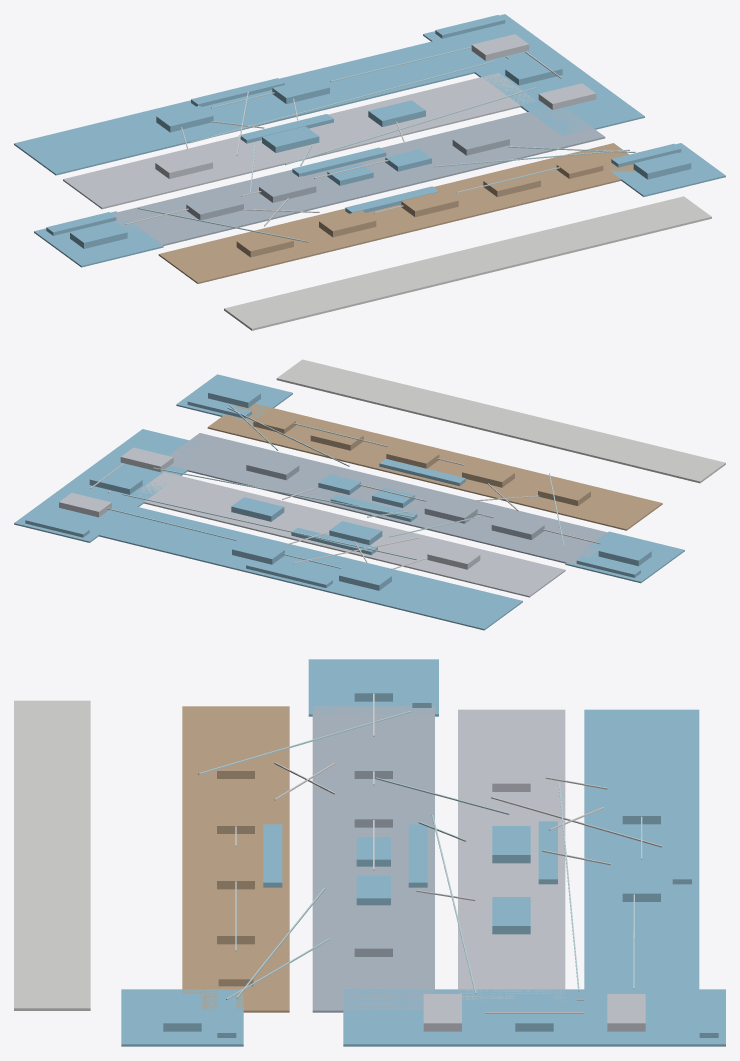
The model's file is architecture.glb.
3 renders of one model, top to bottom at view 1: azimuth 30°, elevation 25°; view 2: azimuth 150°, elevation 25°; view 3: azimuth 270°, elevation 25°, orthographic. The views are drawn at different scales.
Visible parts, largest first — view 1: agent-slab, resident-slab, fabric-slab, title, tree-slab, know-slab, event-slab, derived-slab, resident-slab-sign, hub, artifacts, bag (+25 smaller); view 2: agent-slab, resident-slab, title, fabric-slab, tree-slab, know-slab, event-slab, derived-slab, tree-slab-sign, agent-slab-sign, registry, cache (+25 smaller); view 3: resident-slab, agent-slab, fabric-slab, tree-slab, title, know-slab, derived-slab, event-slab, ctx-mcp, res-mcp, registry, bag (+23 smaller).
Boxes of the visible parts, x1=… form: agent-slab: x1=14, y1=37, x2=490, y2=175; resident-slab: x1=112, y1=107, x2=605, y2=245; fabric-slab: x1=63, y1=73, x2=535, y2=209; title: x1=224, y1=196, x2=711, y2=330; tree-slab: x1=158, y1=143, x2=635, y2=283; know-slab: x1=423, y1=14, x2=644, y2=135; event-slab: x1=34, y1=211, x2=163, y2=267; derived-slab: x1=608, y1=143, x2=725, y2=196; resident-slab-sign: x1=292, y1=147, x2=386, y2=176; hub: x1=538, y1=83, x2=596, y2=109; artifacts: x1=633, y1=153, x2=691, y2=179; bag: x1=471, y1=34, x2=529, y2=60; agent-slab: x1=87, y1=503, x2=522, y2=630; resident-slab: x1=168, y1=433, x2=607, y2=565; title: x1=276, y1=359, x2=725, y2=483; fabric-slab: x1=137, y1=472, x2=565, y2=597; tree-slab: x1=207, y1=403, x2=662, y2=530; know-slab: x1=14, y1=429, x2=217, y2=542; event-slab: x1=565, y1=531, x2=684, y2=583; derived-slab: x1=176, y1=374, x2=292, y2=421; tree-slab-sign: x1=379, y1=459, x2=465, y2=486; agent-slab-sign: x1=246, y1=560, x2=332, y2=587; registry: x1=231, y1=497, x2=284, y2=521; cache: x1=246, y1=455, x2=299, y2=480; resident-slab: x1=312, y1=706, x2=434, y2=1012; agent-slab: x1=584, y1=709, x2=699, y2=1000; fabric-slab: x1=458, y1=709, x2=565, y2=1000; tree-slab: x1=182, y1=706, x2=289, y2=1012; title: x1=14, y1=700, x2=90, y2=1010; know-slab: x1=343, y1=989, x2=725, y2=1046; derived-slab: x1=121, y1=989, x2=243, y2=1046; event-slab: x1=308, y1=659, x2=438, y2=716; ctx-mcp: x1=492, y1=754, x2=530, y2=791; res-mcp: x1=492, y1=826, x2=530, y2=863; registry: x1=492, y1=897, x2=530, y2=934; bag: x1=607, y1=994, x2=645, y2=1031.
Bounding box in the file's own units: 11.9 × 0.189 × 9.3.
